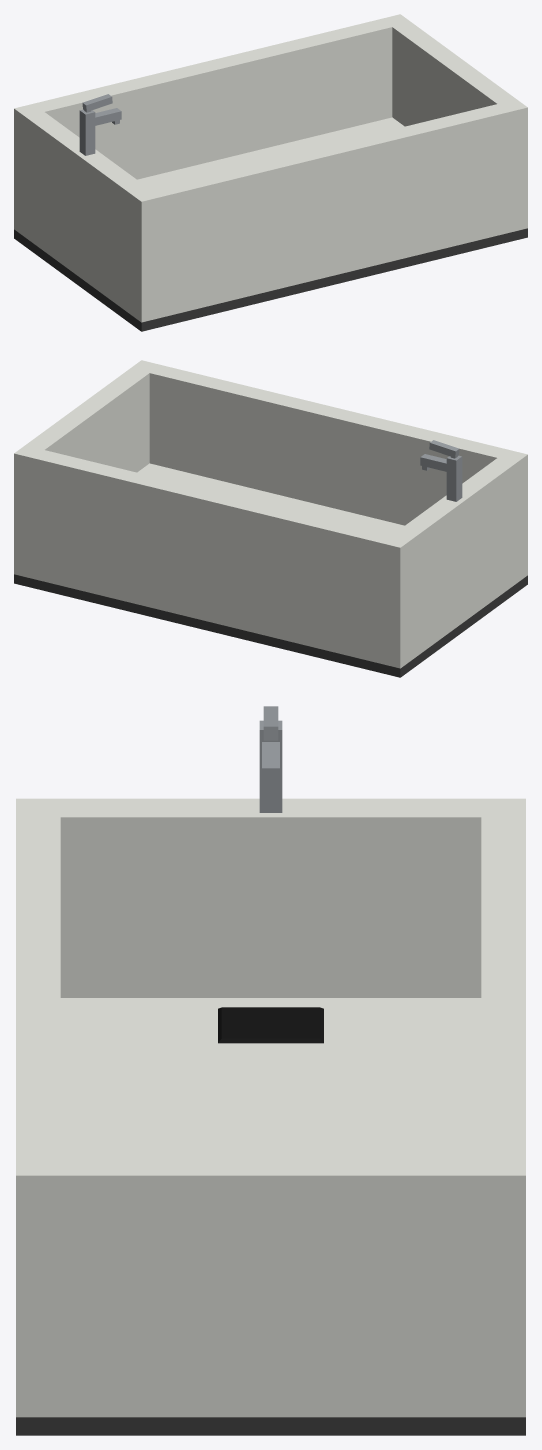
The model's file is Bath_Tub_1.fbx.
3 renders of one model, top to bottom at view 1: azimuth 30°, elevation 25°; view 2: azimuth 150°, elevation 25°; view 3: azimuth 270°, elevation 25°, orthographic. The views are drawn at different scales.
Parts seen in each view (by area): view 1: polySurface1858; view 2: polySurface1858; view 3: polySurface1858.
Boxes of the visible parts, x1,y1,x2,y2 form: polySurface1858: [14, 14, 527, 331]; polySurface1858: [14, 360, 527, 677]; polySurface1858: [16, 706, 525, 1435].
Size of the model in its own units: 3.5 by 1.57 by 2.
Materials: 1 (1 with a texture image).
